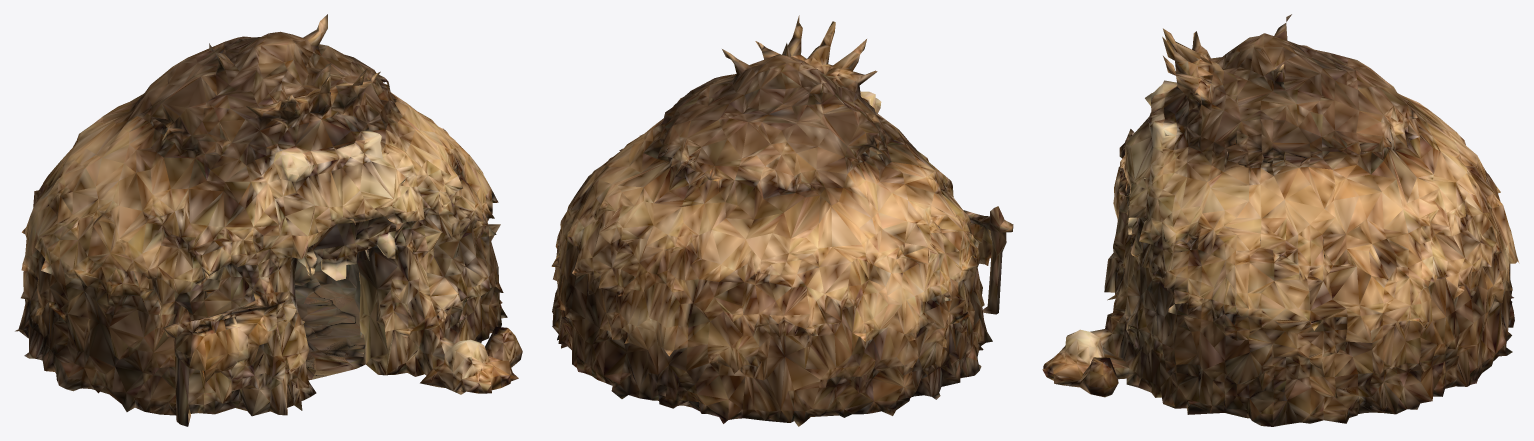
The model's file is zahnhaus.glb.
3 views of the same model, side by side, from view 1: azimuth 30°, elevation 25°; view 2: azimuth 150°, elevation 25°; view 3: azimuth 270°, elevation 25° (orthographic). The views are drawn at different scales.
Size of the model in its own units: 1.89 by 1.28 by 1.89.
1 material, 1 textured.
